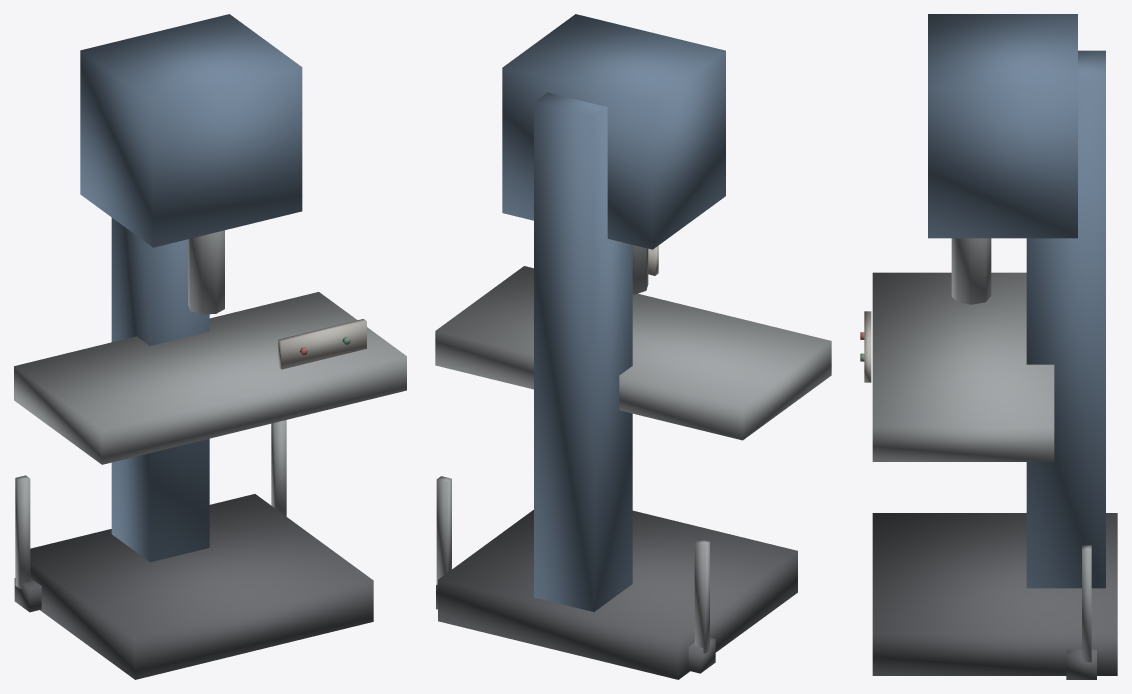
The model's file is milling_machine_silhouette__reinforced.glb.
3 renders of one model, left to right at view 1: azimuth 30°, elevation 25°; view 2: azimuth 150°, elevation 25°; view 3: azimuth 270°, elevation 25°, orthographic. The views are drawn at different scales.
Visible parts, largest first — view 1: world; view 2: world; view 3: world.
Part boxes in pixels (<box>): world: <box>14,14,406,679</box>; world: <box>435,14,831,679</box>; world: <box>860,14,1117,679</box>.
Bounding box in the file's own units: 0.9476 × 1.62 × 0.6705.
